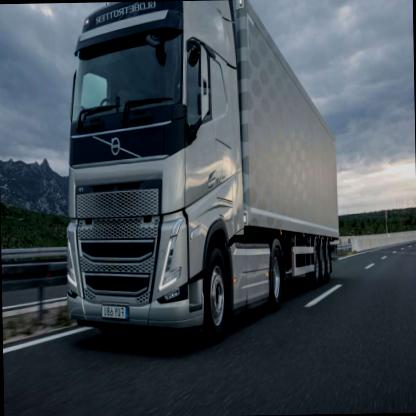truck: (63, 0, 340, 345)
